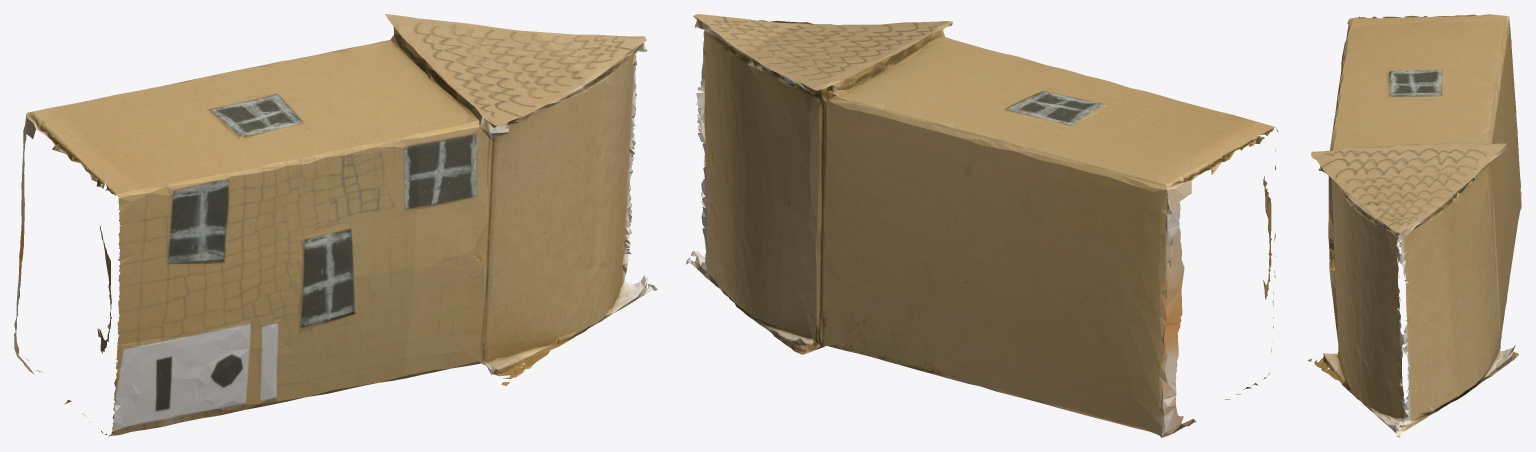
The model's file is m9_5K_1024tex.glb.
3 views of the same model, side by side, from view 1: azimuth 30°, elevation 25°; view 2: azimuth 150°, elevation 25°; view 3: azimuth 270°, elevation 25° (orthographic). The views are drawn at different scales.
Bounding box in the file's own units: 5.05 × 2.33 × 2.07.
1 material, 1 textured.
